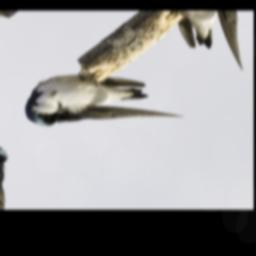Swallow: (6, 45, 191, 173)
